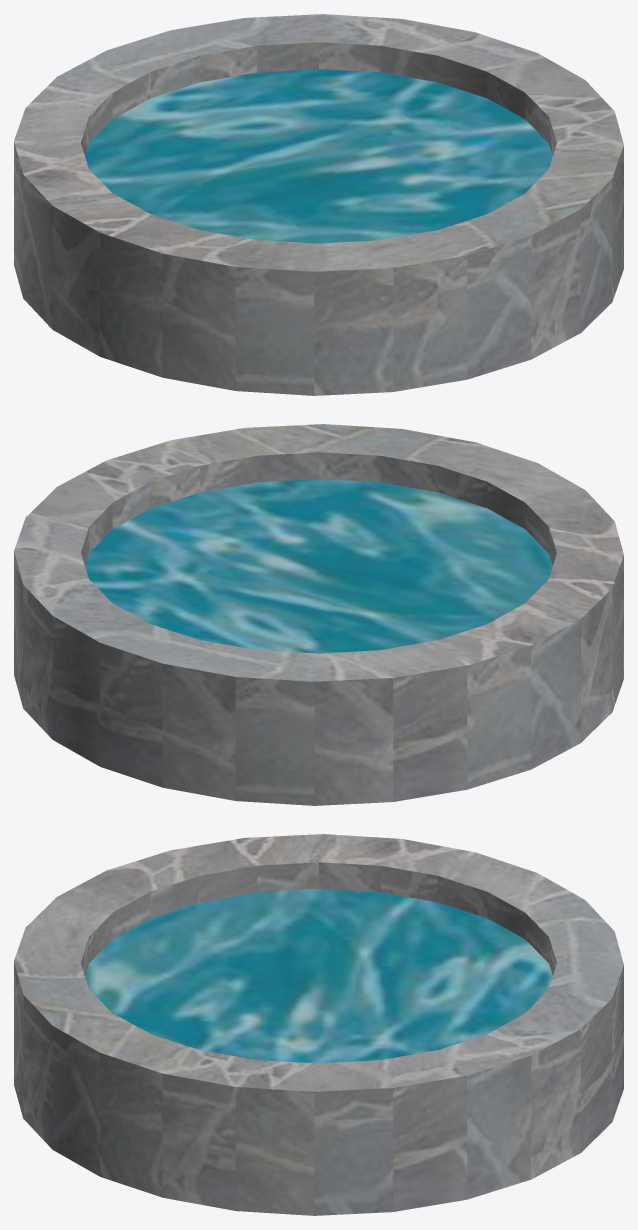
3 renders of one model, top to bottom at view 1: azimuth 30°, elevation 25°; view 2: azimuth 150°, elevation 25°; view 3: azimuth 270°, elevation 25°, orthographic.
Visible parts, largest first — view 1: ID_14.dae (×3); view 2: ID_14.dae (×3); view 3: ID_14.dae (×3).
Part boxes in pixels (left/top/right/bottom): ID_14.dae (×3): left=14, top=14, right=623, bottom=395; ID_14.dae (×3): left=14, top=424, right=623, bottom=805; ID_14.dae (×3): left=14, top=834, right=623, bottom=1215.
Size of the model in its own units: 1.45 by 1.45 by 0.325.
Materials: 2 (2 with a texture image).
